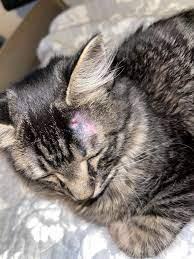ringworm: (66, 110, 106, 145)
